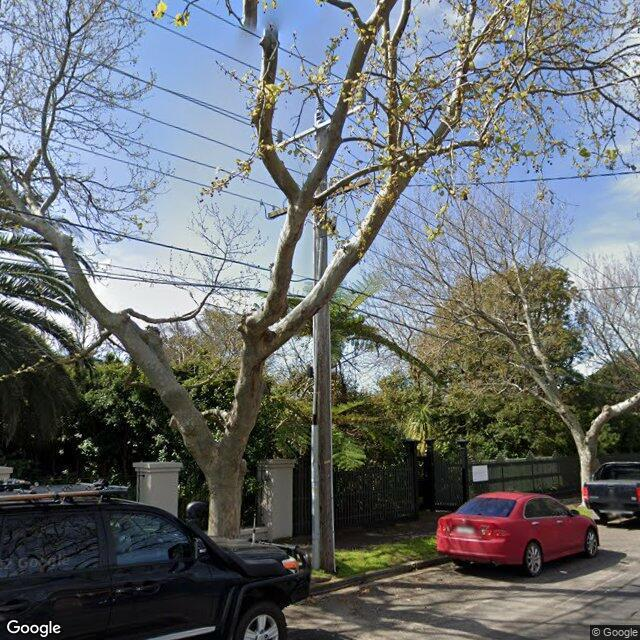HV-transmission: (276, 88, 366, 144)
crossarm: (267, 178, 372, 218), (277, 105, 365, 149)
timber-pole: (313, 128, 335, 574)
